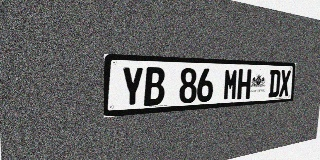6: (197, 68, 214, 102)
8: (179, 68, 198, 104)
B: (144, 67, 165, 106)
D: (268, 70, 281, 97)
H: (237, 69, 251, 100)
M: (223, 69, 238, 101)
X: (279, 70, 291, 97)
Y: (121, 66, 144, 108)
